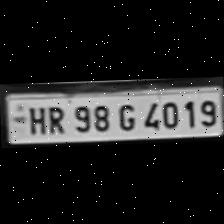0: (158, 97, 180, 129)
1: (178, 97, 198, 128)
4: (136, 98, 160, 130)
8: (89, 100, 111, 132)
9: (66, 101, 92, 133), (196, 96, 218, 127)
G: (112, 100, 136, 132)
H: (24, 103, 46, 134)
R: (42, 102, 66, 134)
